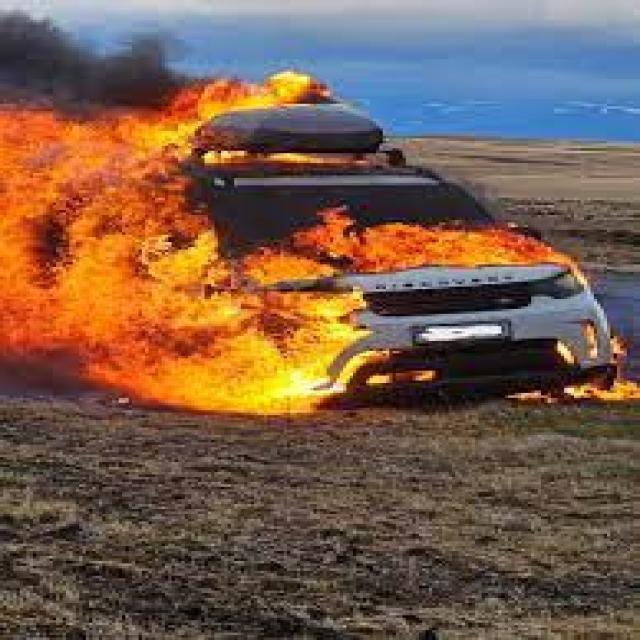Fire: (0, 74, 640, 418)
Smoke: (0, 1, 165, 94)
